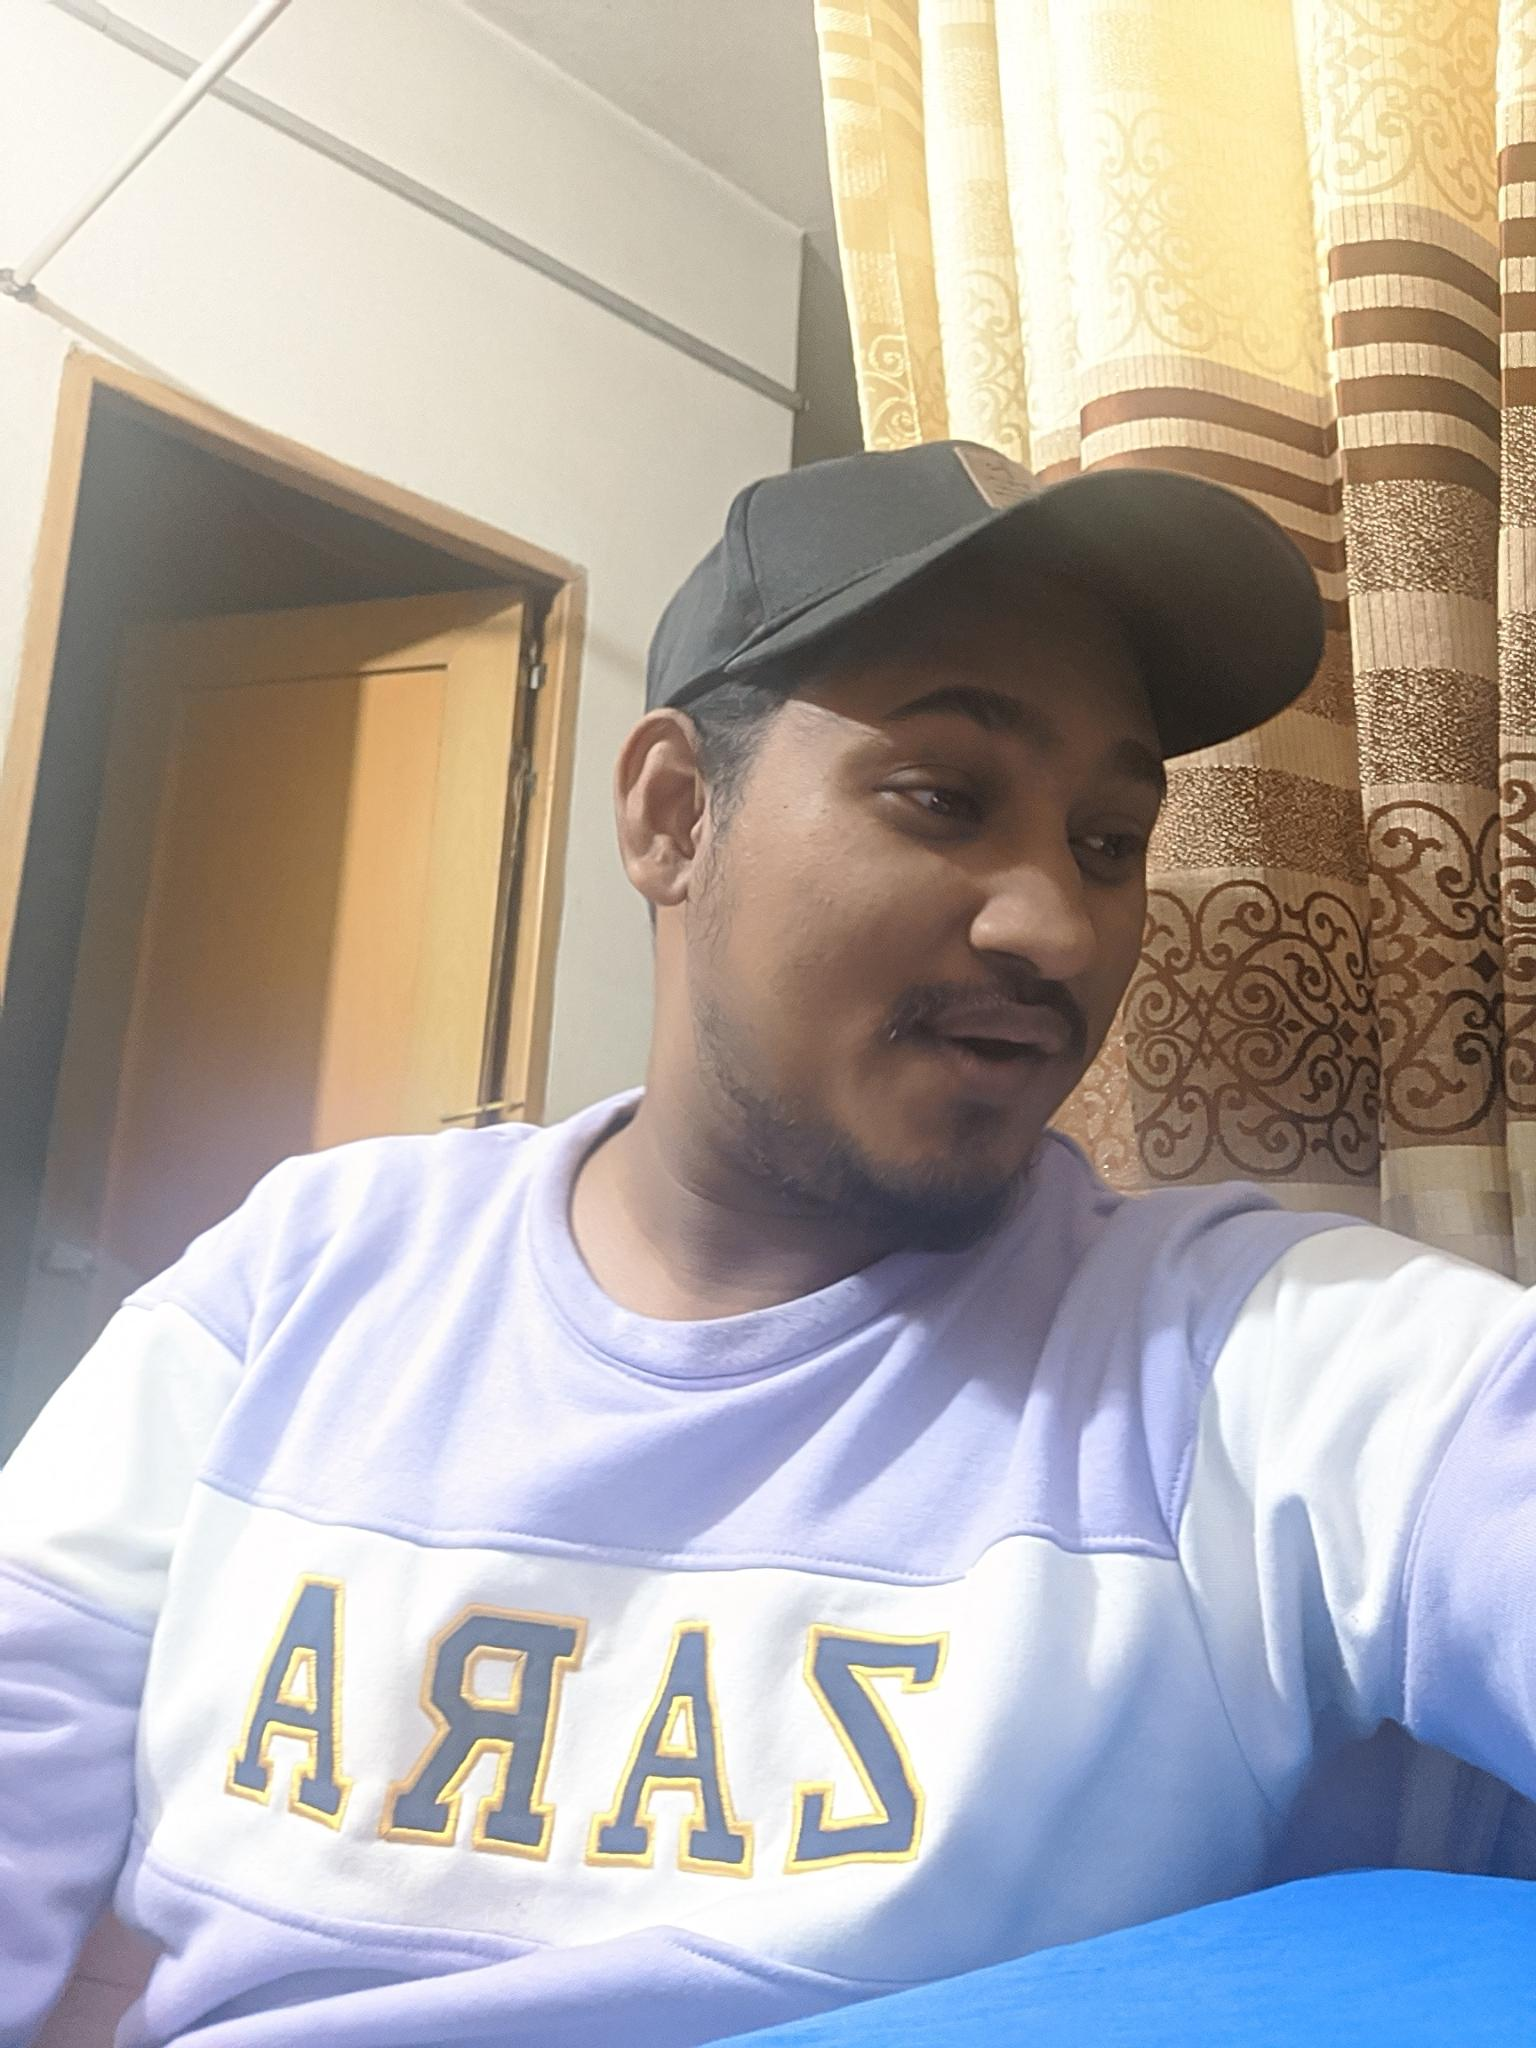Surprise: (784, 640, 1205, 1211)
